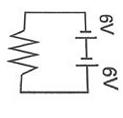resistor: (6, 26, 47, 76)
